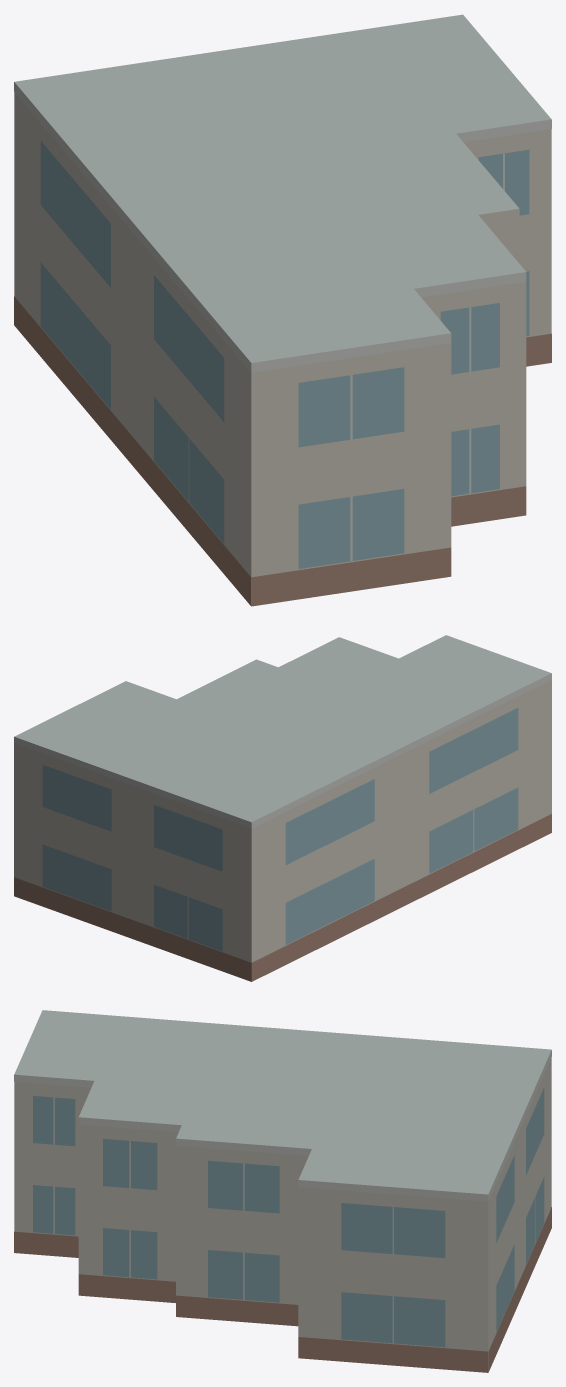
File: survey-upis-32803801.glb
3 views of the same model, one above another, from view 1: azimuth 30°, elevation 25°; view 2: azimuth 150°, elevation 25°; view 3: azimuth 270°, elevation 25° (orthographic). The views are drawn at different scales.
Visible parts, largest first — view 1: survey-upis-32803801.tmp; view 2: survey-upis-32803801.tmp; view 3: survey-upis-32803801.tmp.
Part boxes in pixels (box(x1,y1,x2,y2)): survey-upis-32803801.tmp: box(14, 14, 551, 606); survey-upis-32803801.tmp: box(14, 635, 551, 981); survey-upis-32803801.tmp: box(14, 1010, 551, 1372).
Bounding box in the file's own units: 13.54 × 6.1 × 16.68.
